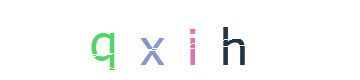H: (193, 0, 273, 80)
I: (140, 0, 220, 80)
Q: (77, 0, 157, 80)
X: (126, 0, 206, 80)
